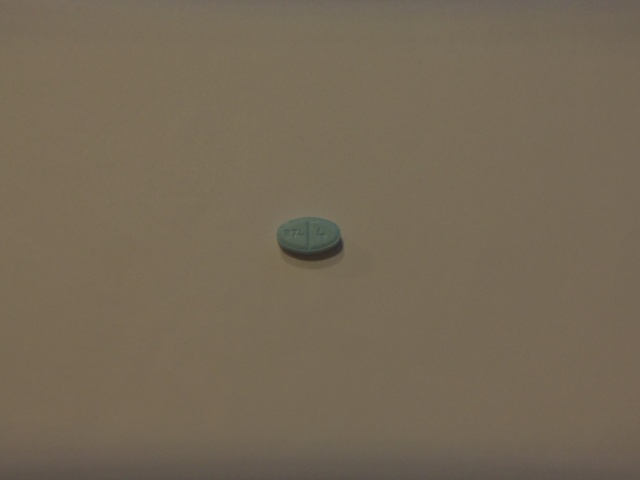2: (298, 227, 304, 238)
4: (315, 226, 330, 243)
7: (290, 228, 297, 241)
8: (282, 227, 290, 239)
|: (304, 215, 312, 254)
